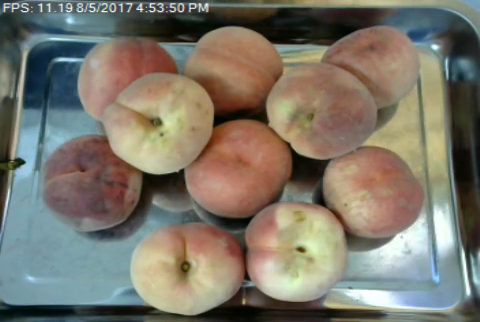Peach: (103, 74, 216, 175), (183, 118, 292, 218), (265, 64, 377, 160), (129, 223, 245, 315), (242, 200, 347, 301), (40, 133, 141, 229), (321, 145, 424, 239), (317, 26, 428, 113), (183, 26, 285, 113), (82, 36, 172, 124)
